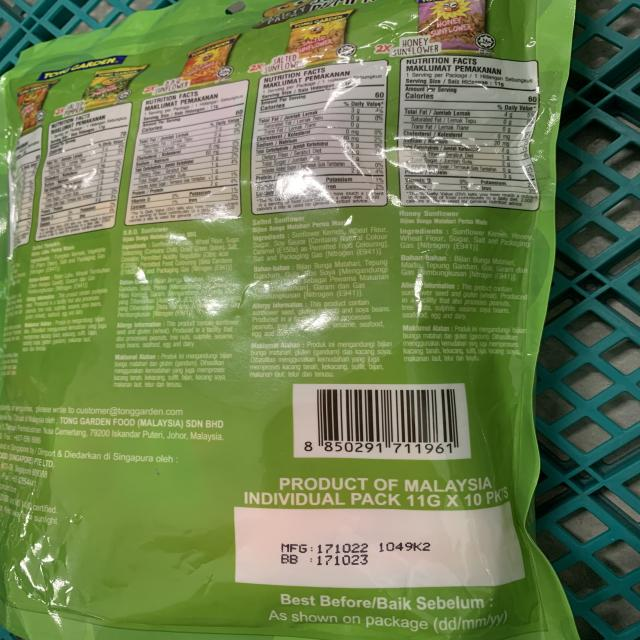object_name: (10, 20, 537, 640)
